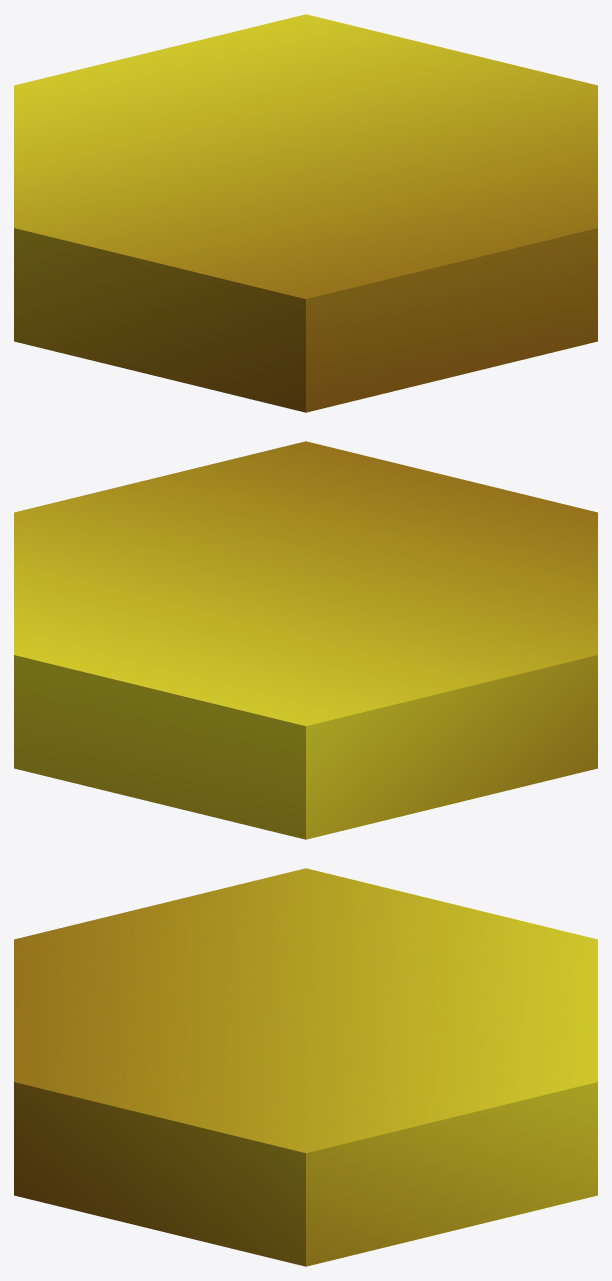
Rendered from Coin_Gold.fbx.
3 views of the same model, one above another, from view 1: azimuth 30°, elevation 25°; view 2: azimuth 150°, elevation 25°; view 3: azimuth 270°, elevation 25° (orthographic).
Parts seen in each view (by area): view 1: Coin_Gold; view 2: Coin_Gold; view 3: Coin_Gold.
Part boxes in pixels (x1,y1,x2,y2): Coin_Gold: (14,14,597,412); Coin_Gold: (14,441,597,839); Coin_Gold: (14,868,597,1266).
Bounding box in the file's own units: 9.77 × 1.81 × 8.46.
